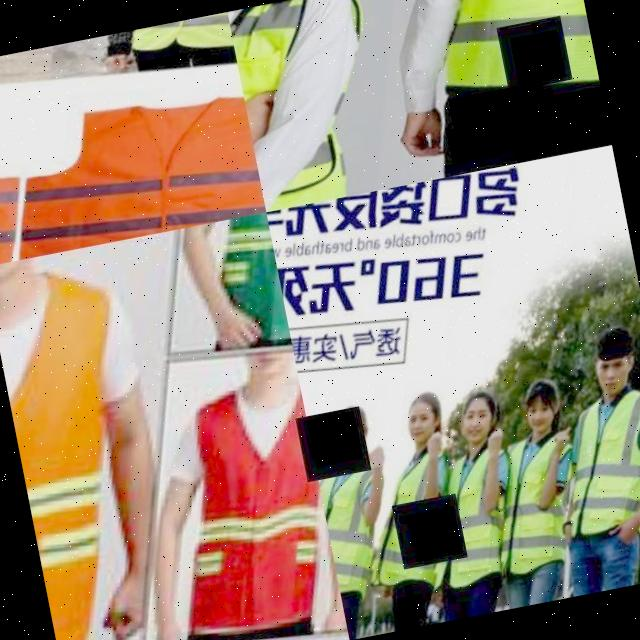vest: (0, 240, 201, 640), (138, 368, 349, 640), (227, 0, 386, 212), (429, 0, 603, 127), (191, 212, 296, 377), (432, 452, 538, 598), (498, 439, 608, 579), (376, 453, 474, 592), (318, 465, 412, 599), (568, 403, 640, 545), (125, 12, 238, 85)
